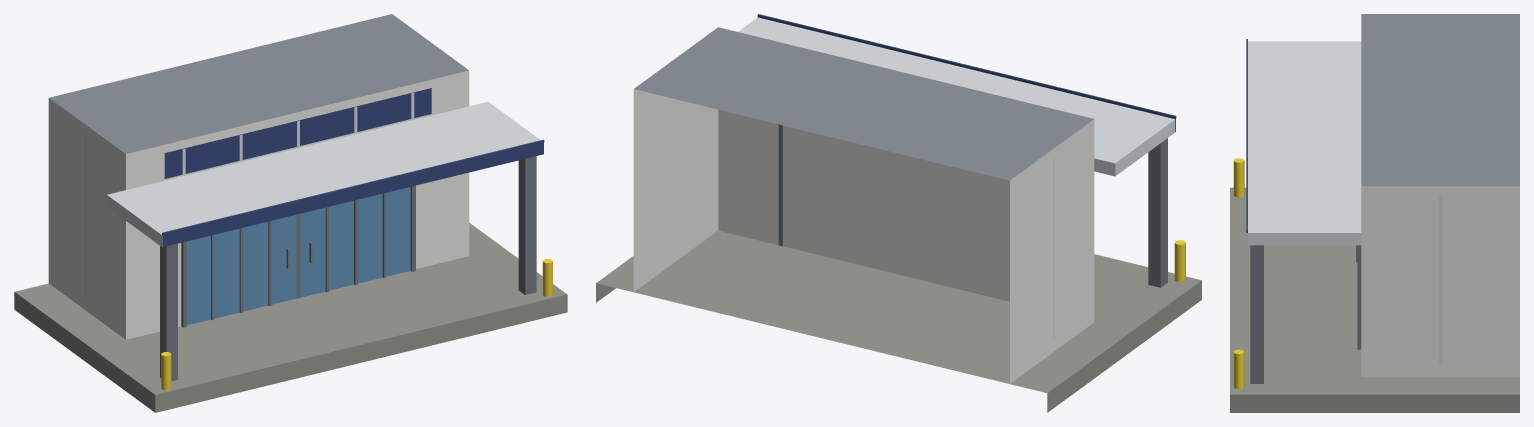
File: entrance_close.fbx
The picture shows the model from 3 angles, left to right: view 1: azimuth 30°, elevation 25°; view 2: azimuth 150°, elevation 25°; view 3: azimuth 270°, elevation 25°; orthographic projection. The views are drawn at different scales.
Parts seen in each view (by area): view 1: a1028/0/entrance_close; view 2: a1028/0/entrance_close; view 3: a1028/0/entrance_close.
Part boxes in pixels (bbox=[...]): a1028/0/entrance_close: bbox=[14, 14, 567, 412]; a1028/0/entrance_close: bbox=[596, 14, 1201, 412]; a1028/0/entrance_close: bbox=[1230, 14, 1519, 412].
Size of the model in its own units: 10.8 by 5.1 by 6.4.
